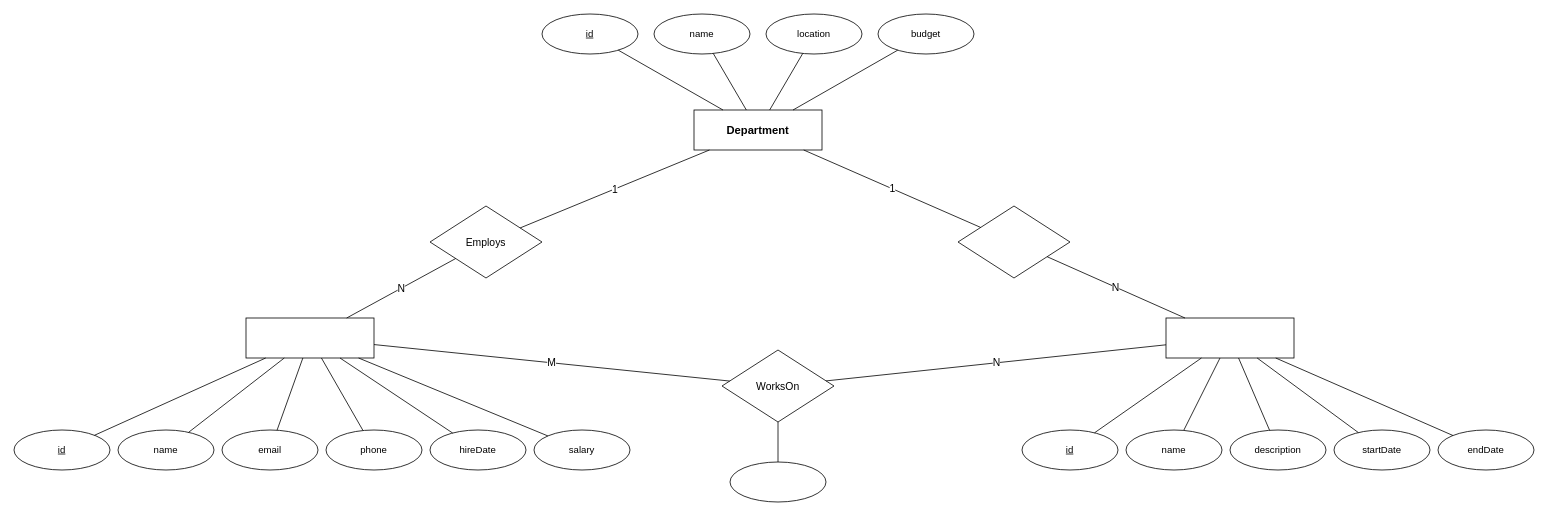
Image size: 1548x516. Some labels were removed from this diagram. Each missing label, with the centre of its shape:
"Employee" goes at [309,337].
"Owns" goes at [1013,241].
"Project" goes at [1229,337].
"role" goes at [777,481].
